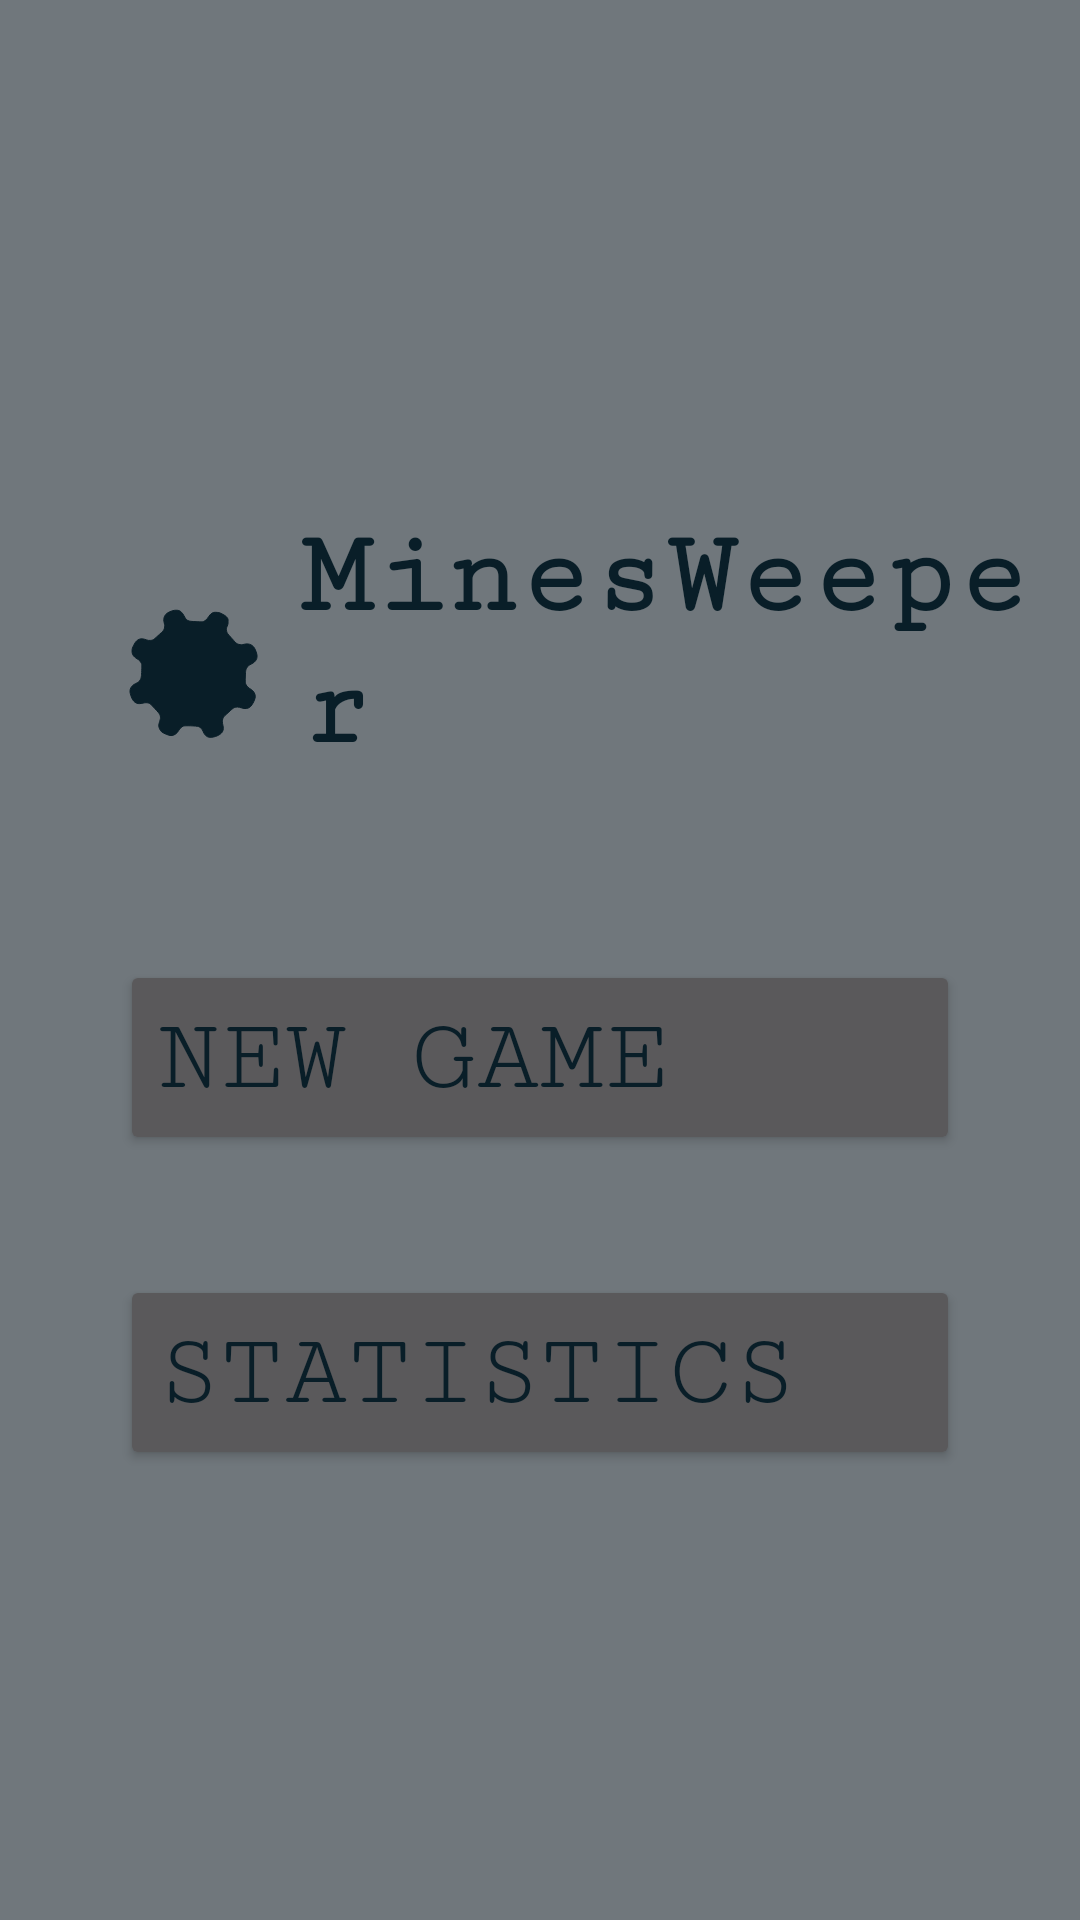

Screen size 1080 x 1920. Icon name, then its center in pixels as point (x, y):
bomb: point (193, 673)
